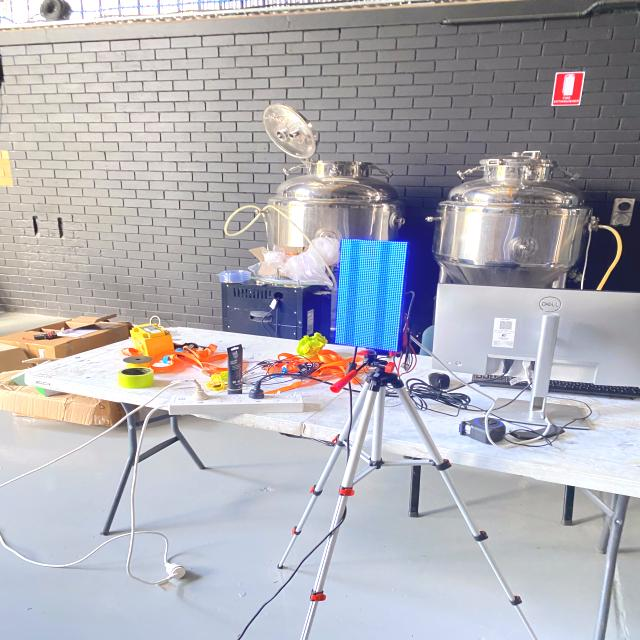matrix: (331, 233, 411, 354)
